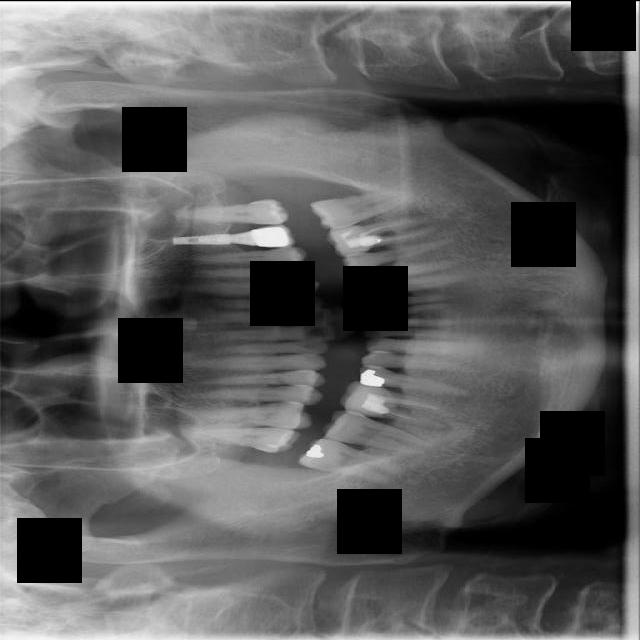52: (336, 370, 392, 425), (254, 416, 303, 466), (324, 220, 369, 263), (297, 437, 350, 471), (253, 224, 295, 247), (357, 363, 391, 387)
73: (373, 386, 454, 436), (359, 208, 438, 252), (564, 78, 574, 84)
BioHorizons Implant: (172, 196, 290, 224)
Blue Sky Bio Implant: (309, 185, 418, 233)
Caries: (178, 422, 300, 453)
Implant: (319, 405, 440, 458)
Keystone Dental Implant: (295, 432, 406, 487)
